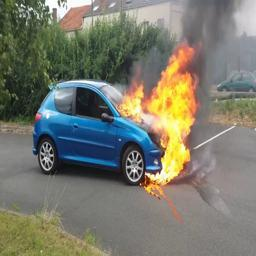fire: (117, 44, 201, 186)
